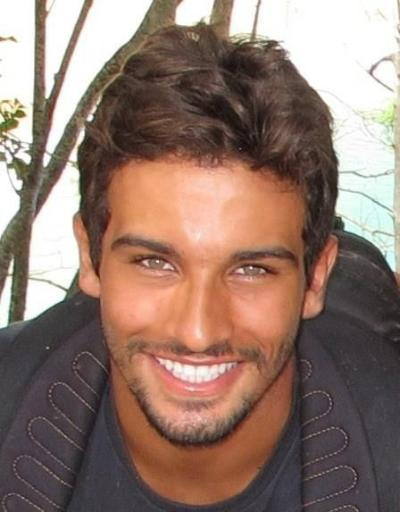left_eye: (228, 264, 280, 287)
left_lip_corner: (232, 352, 254, 374)
right_eye: (126, 255, 180, 279)
right_lip_corner: (135, 343, 160, 367)
